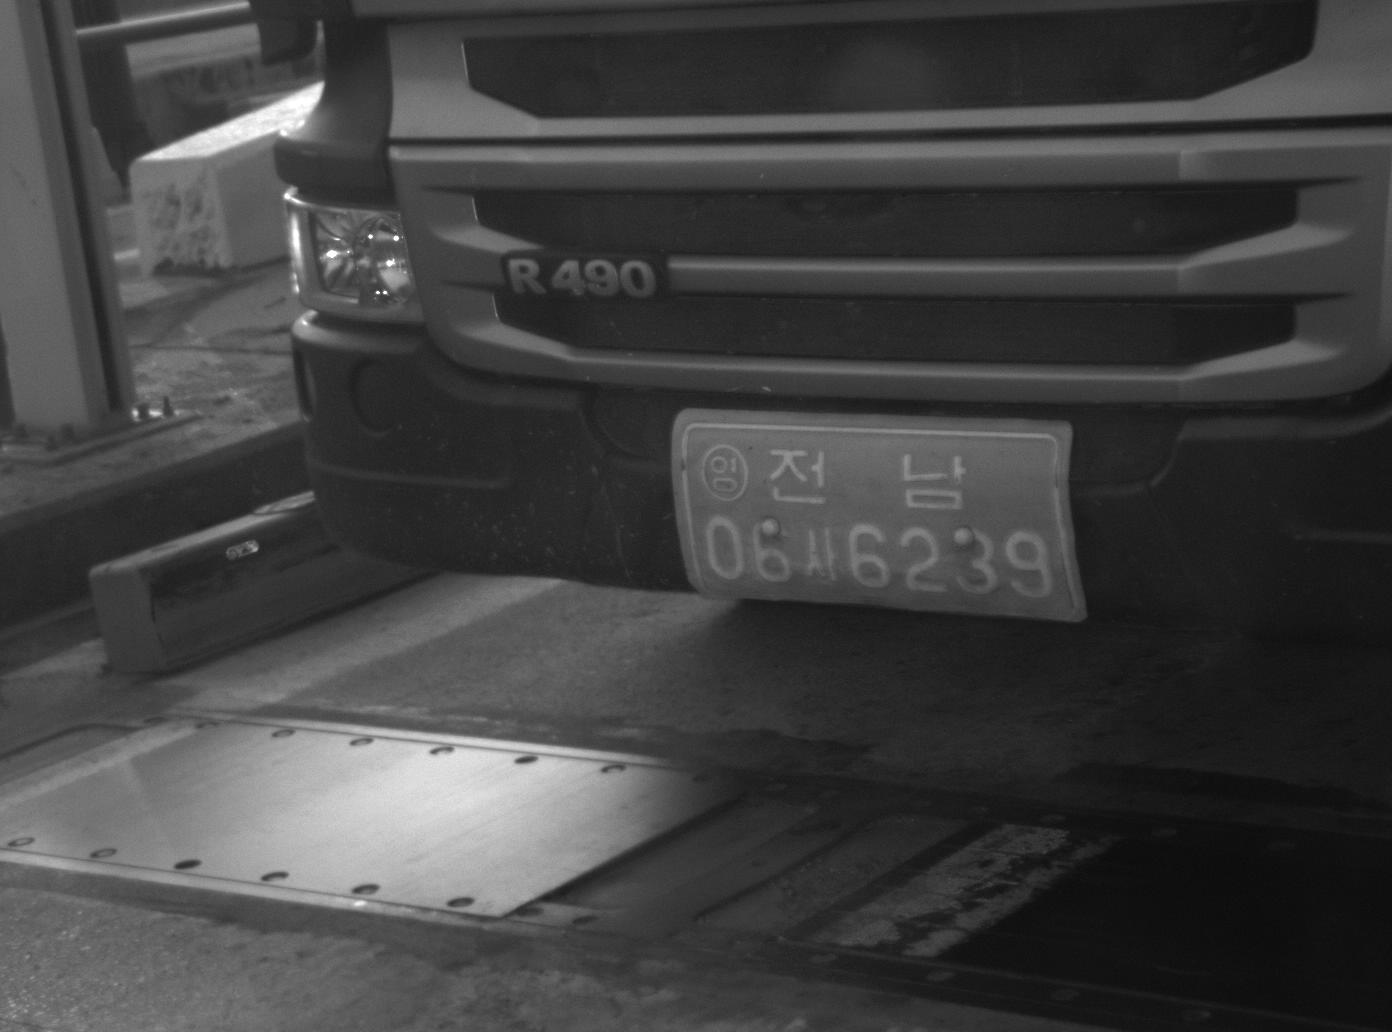car: (272, 1, 1392, 646)
plate: (668, 406, 1090, 626)
